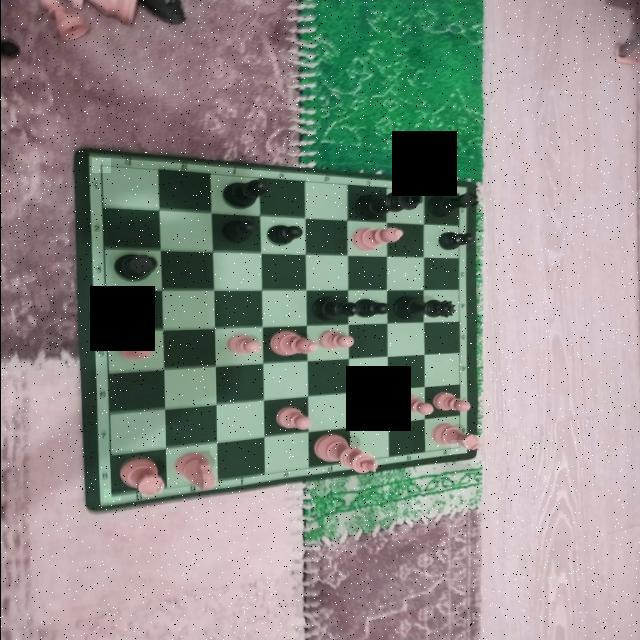chess-table-corners: (91, 158, 110, 173), (103, 489, 120, 503), (450, 440, 466, 454), (450, 186, 464, 201)
